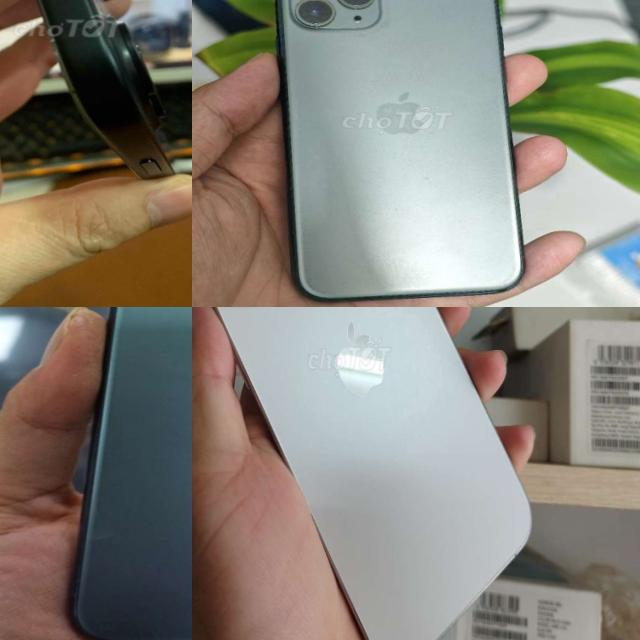gen_11: (267, 0, 533, 307), (73, 307, 192, 640)
gen_15: (192, 307, 540, 640)
gen_16: (36, 0, 172, 178)
